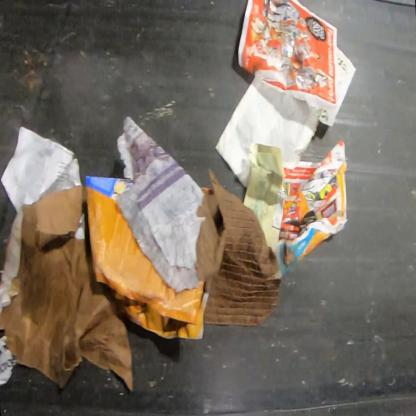cardboard: (84, 176, 209, 340), (195, 171, 280, 326)
